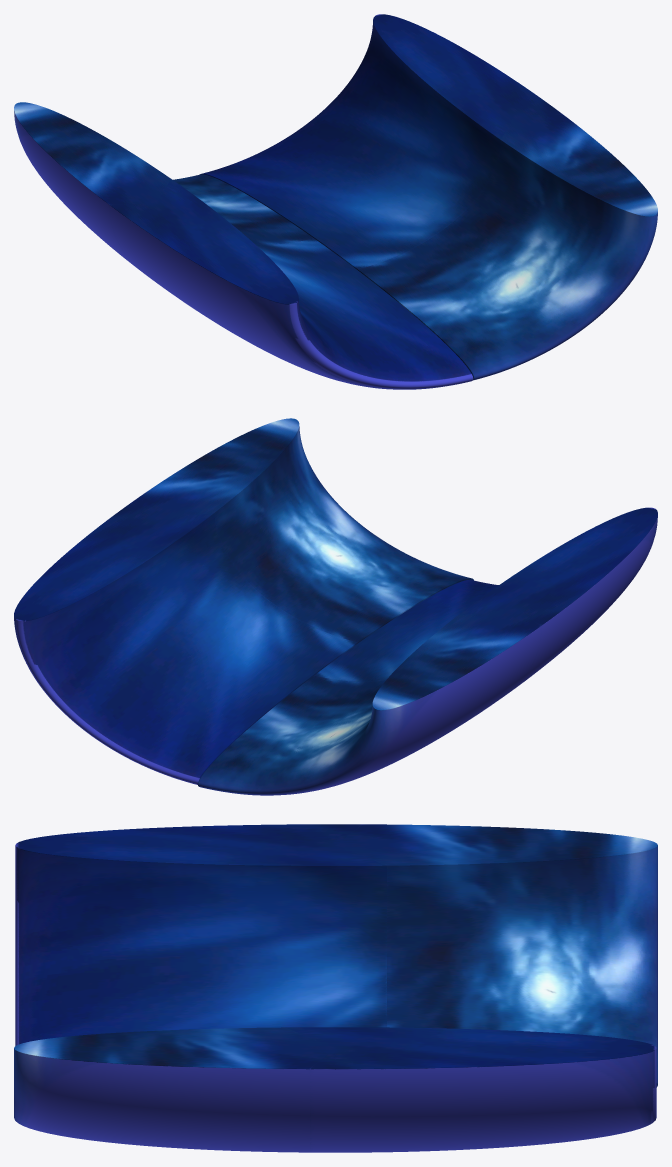
Rendered from TextureBasePipe.fbx.
3 views of the same model, one above another, from view 1: azimuth 30°, elevation 25°; view 2: azimuth 150°, elevation 25°; view 3: azimuth 270°, elevation 25° (orthographic). The views are drawn at different scales.
Visible parts, largest first — view 1: node_id90, node_id147; view 2: node_id90, node_id147; view 3: node_id147, node_id90.
Boxes of the visible parts, box(x1,y1,x2,y2) form: node_id90: box(200, 14, 657, 380); node_id147: box(14, 102, 473, 389); node_id90: box(14, 418, 473, 784); node_id147: box(197, 507, 657, 795); node_id147: box(15, 824, 657, 1087); node_id90: box(14, 1027, 656, 1152).
Size of the model in its own units: 1.1 by 0.3499 by 1.22.
1 material, 1 textured.
